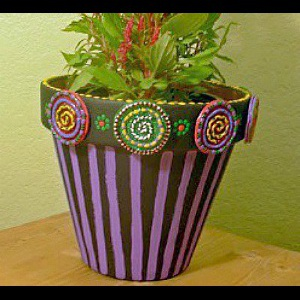flowerpot: (40, 69, 260, 284)
